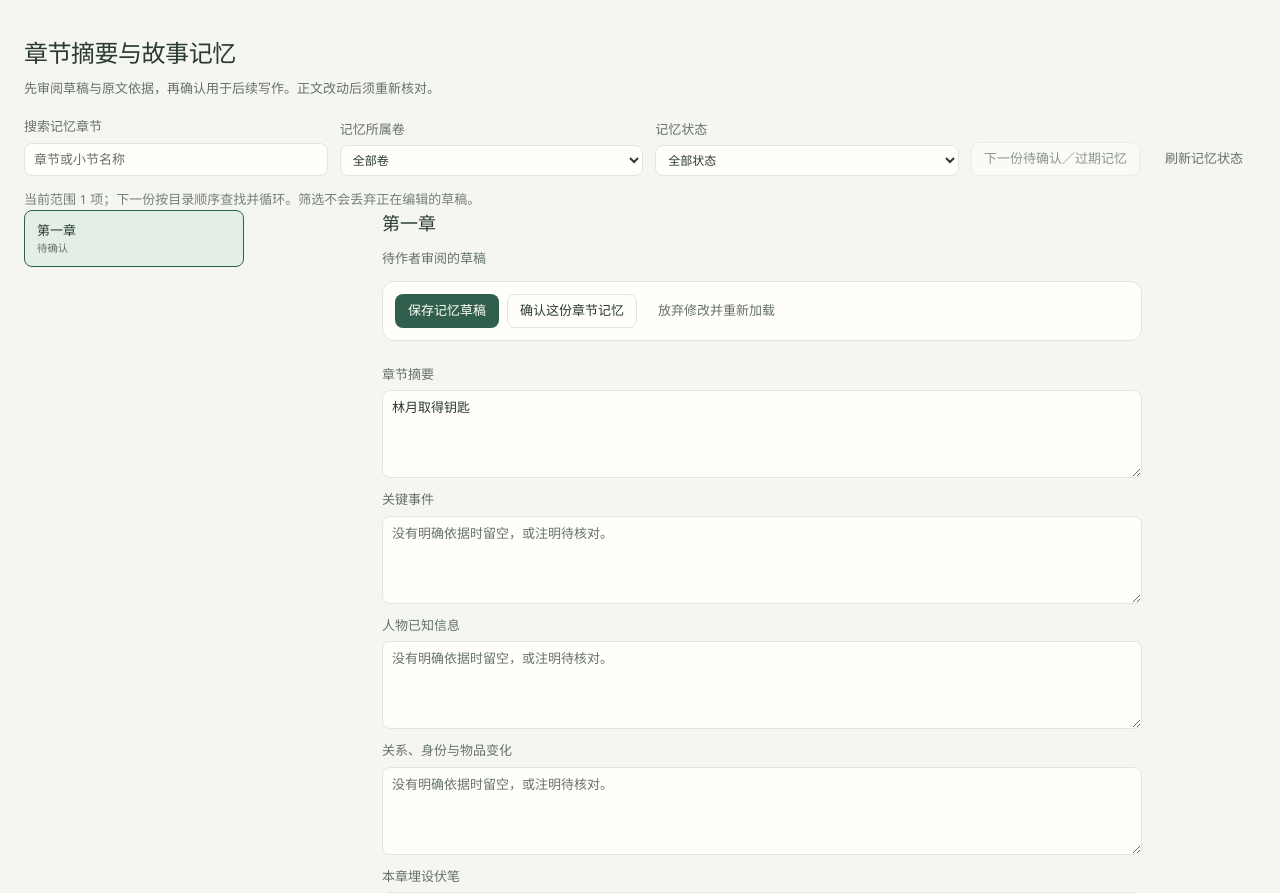
saves field edits as draft and only includes memory after explicit author confirmation
Type "林月取得钥匙但未开门" into the text box labelled "关键事件" at (762, 560), box [382,516,1142,604]
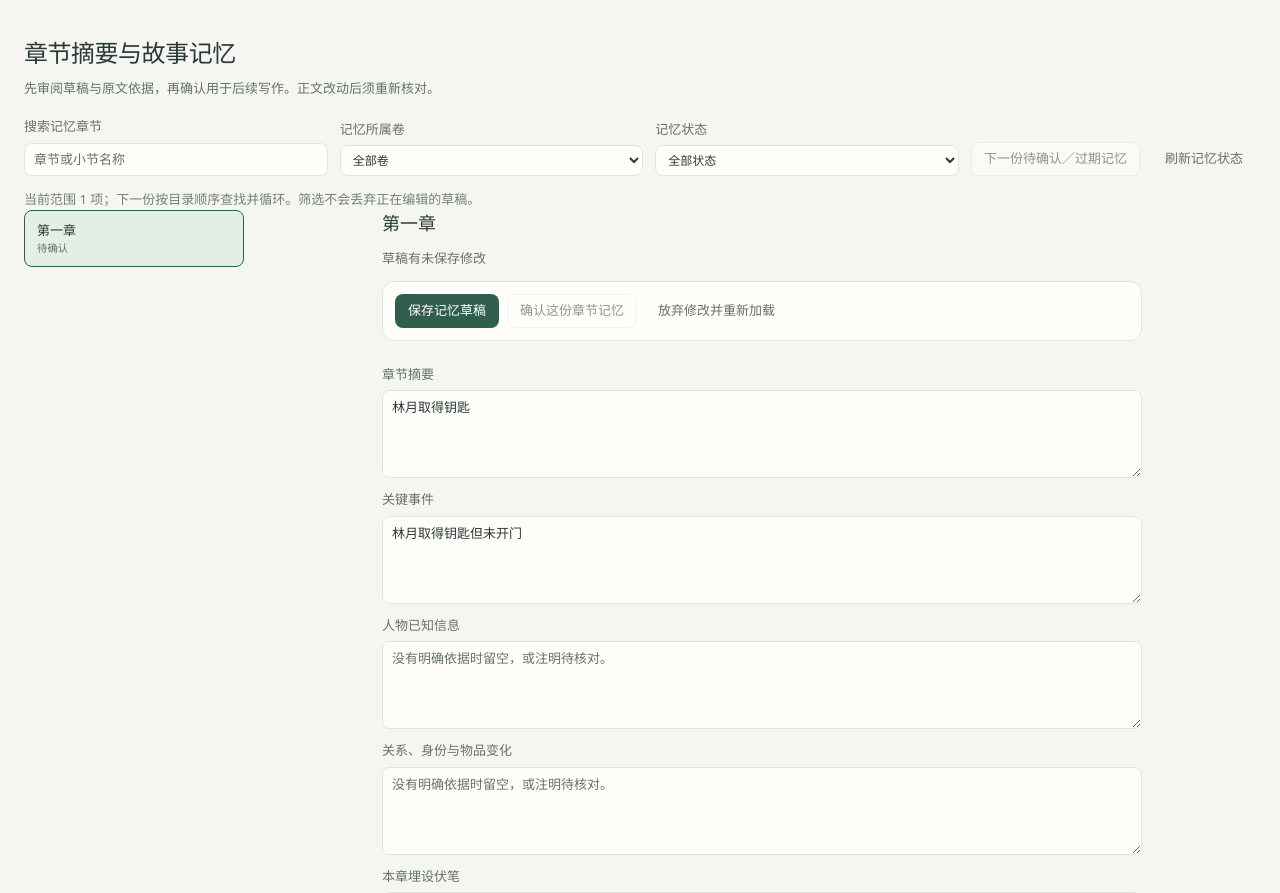
Click the button "保存记忆草稿" at (447, 311), box [395,294,499,328]
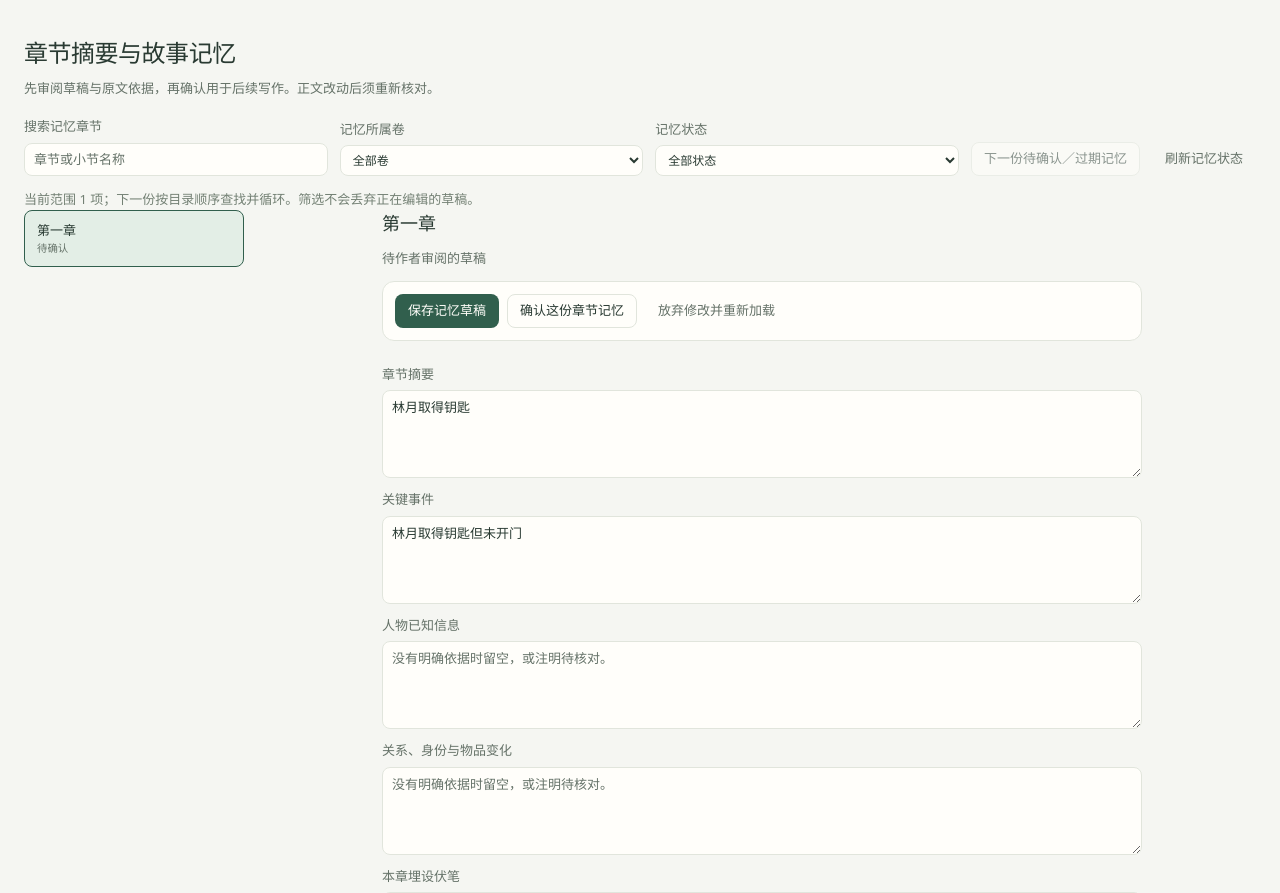
Click the button "确认这份章节记忆" at (572, 311), box [507,294,637,328]
(page scrolled)
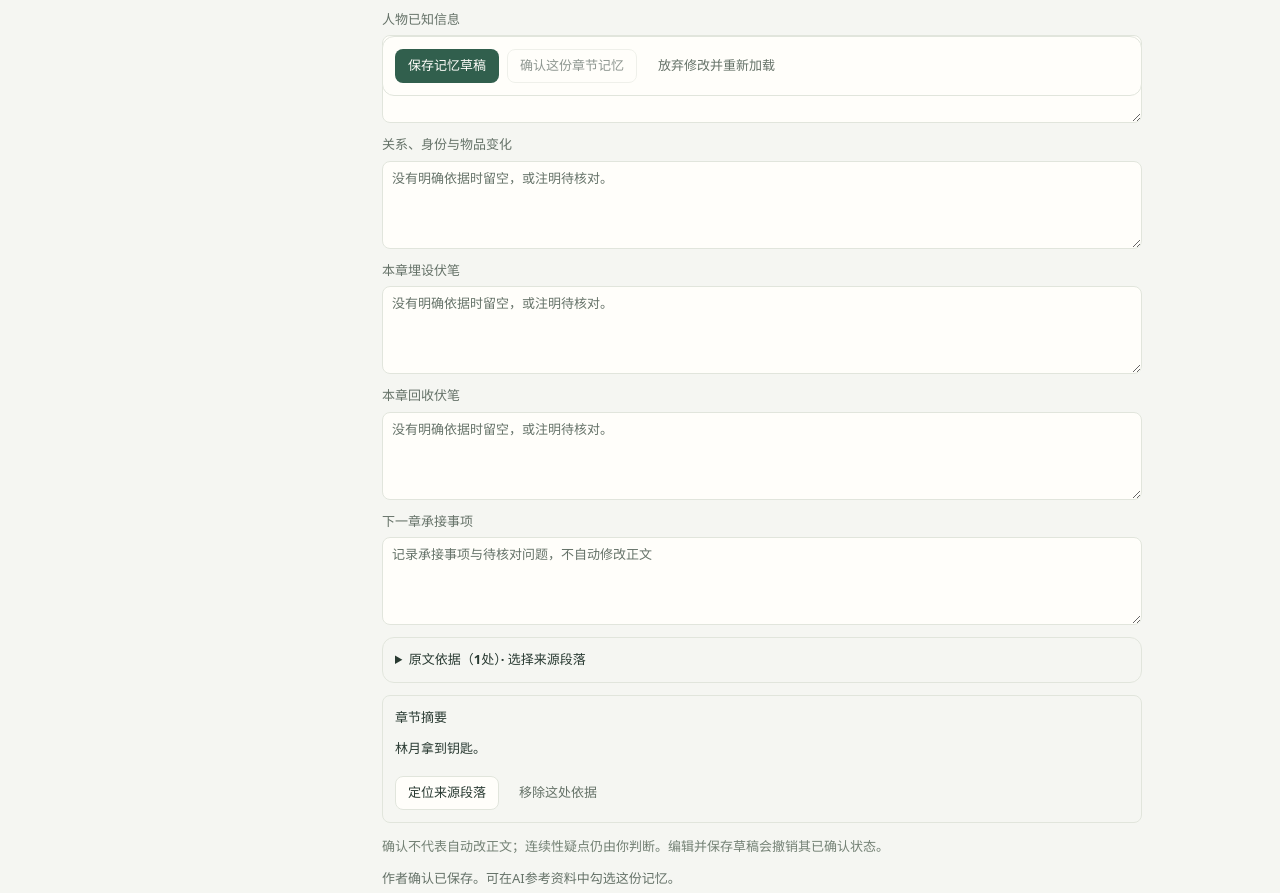
Check: the text "作者确认已保存。可在AI参考资料中勾选这份记忆。" is shown, box [382,869,681,887]
